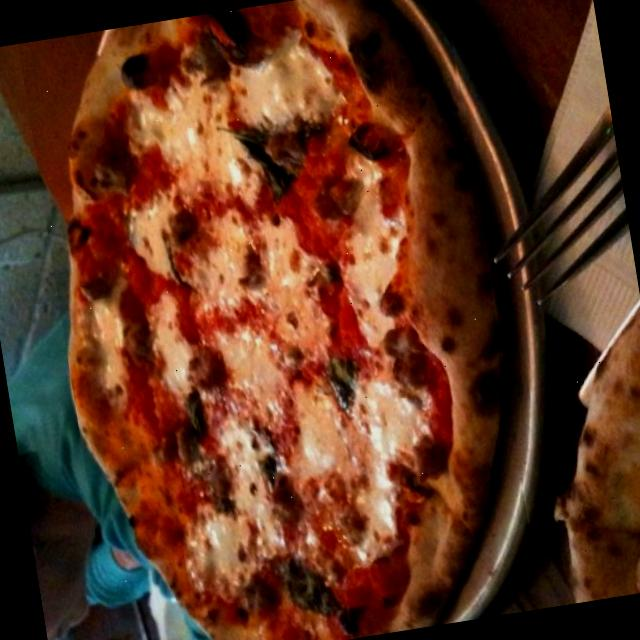pizza: (69, 0, 501, 640), (555, 308, 640, 603)
